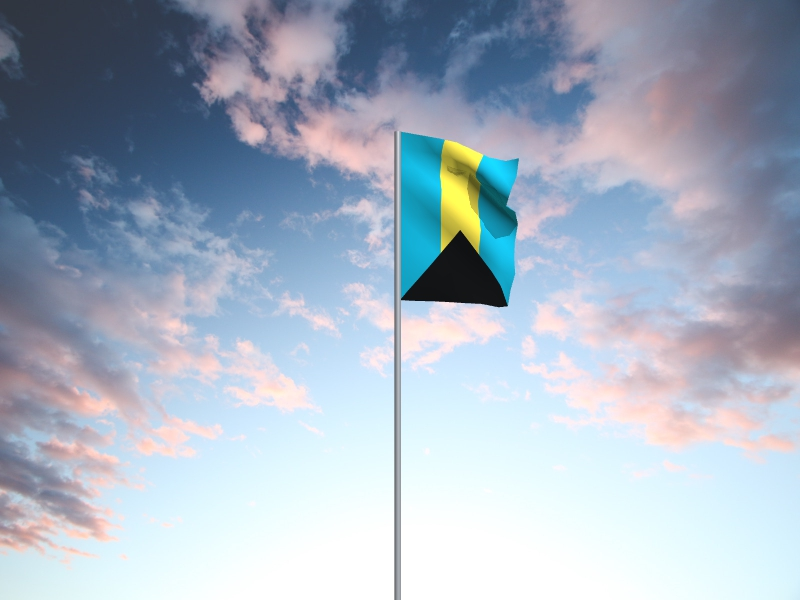bs: (401, 133, 521, 309)
